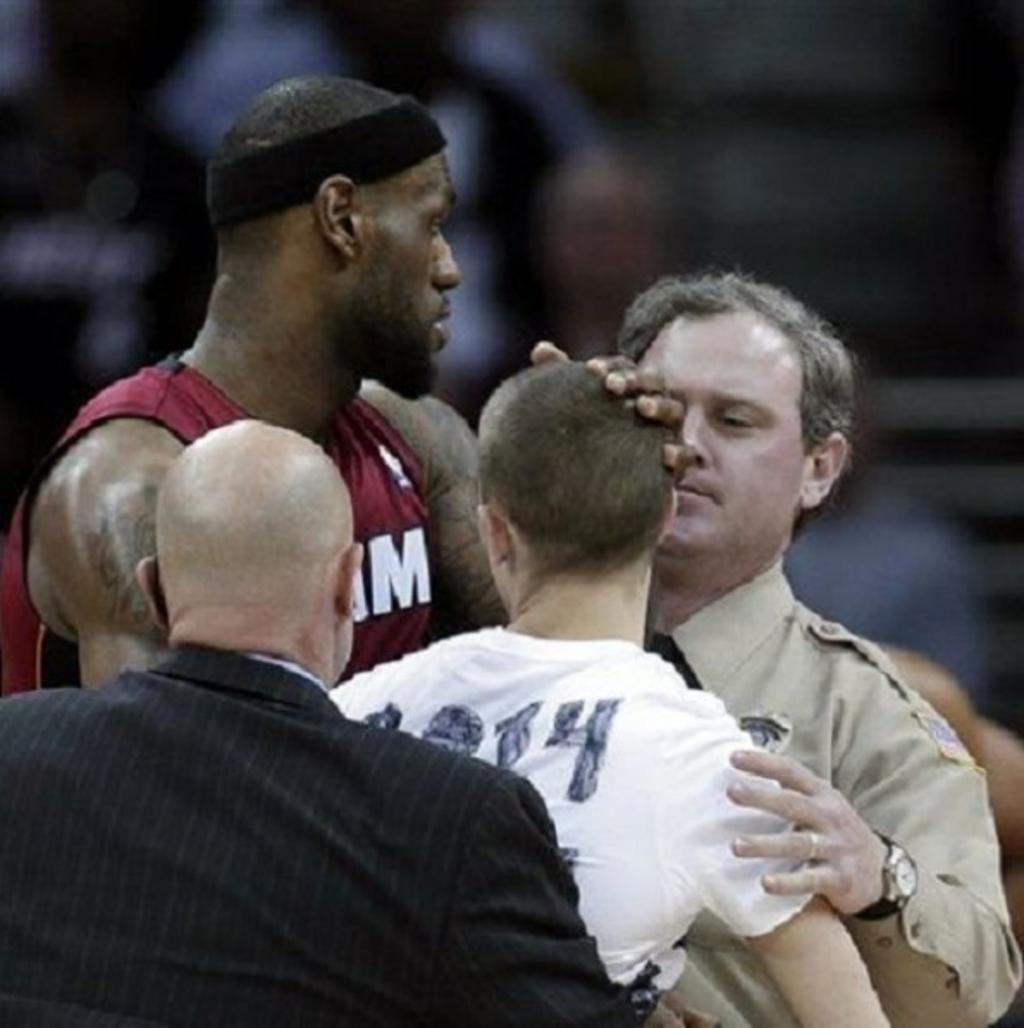face: (626, 313, 801, 554), (341, 147, 457, 390)
